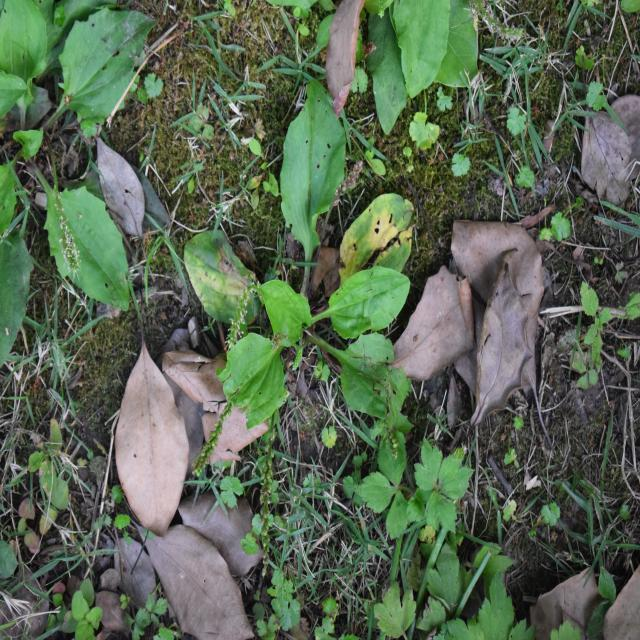plantain: (194, 101, 421, 427)
